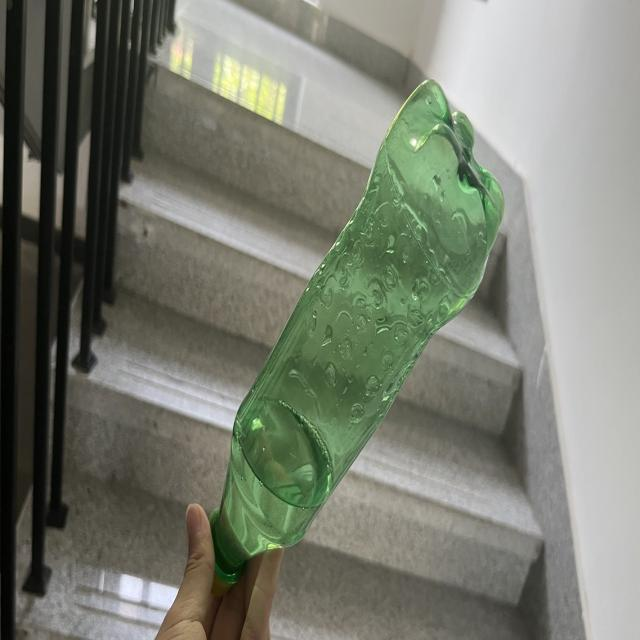low: (213, 81, 503, 590)
